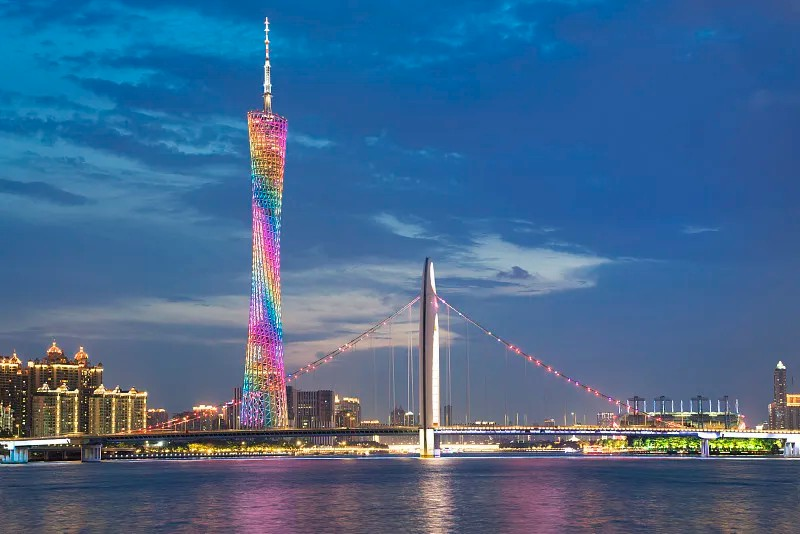Canton: (243, 16, 288, 428)
